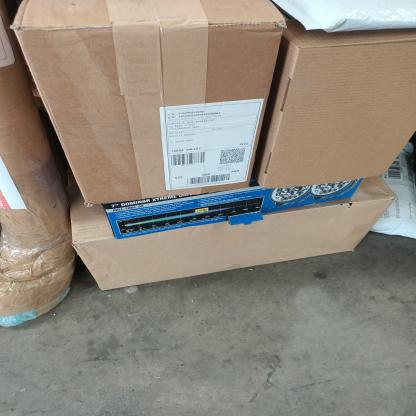label: (152, 96, 266, 191)
package: (0, 0, 290, 196), (44, 185, 416, 316), (0, 0, 72, 342), (278, 21, 411, 185)
